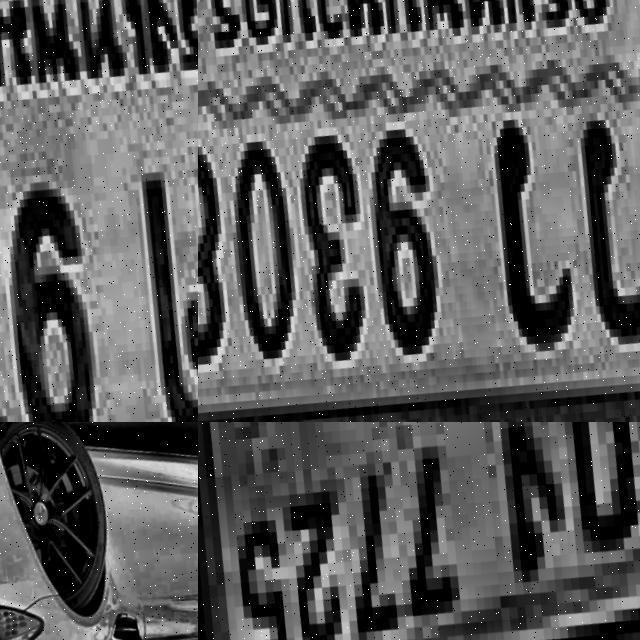license-plate: (198, 0, 640, 422), (198, 422, 640, 640), (0, 0, 198, 422)
